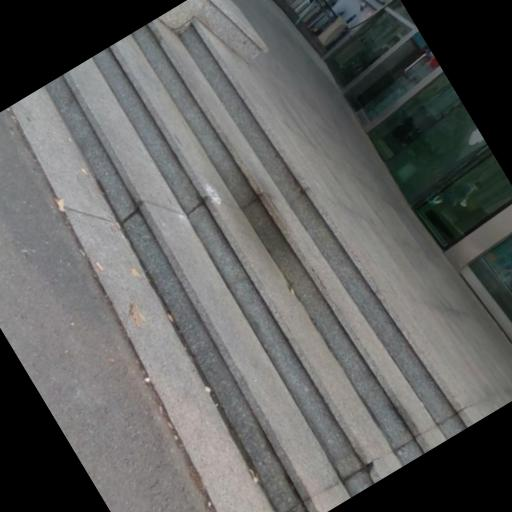stairs: (46, 20, 464, 511)
